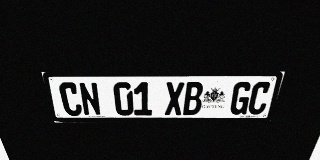0: (113, 82, 134, 116)
1: (133, 82, 152, 115)
B: (183, 82, 204, 115)
C: (246, 82, 272, 115), (58, 82, 83, 116)
G: (229, 82, 253, 115)
N: (78, 82, 102, 116)
X: (165, 82, 184, 115)
